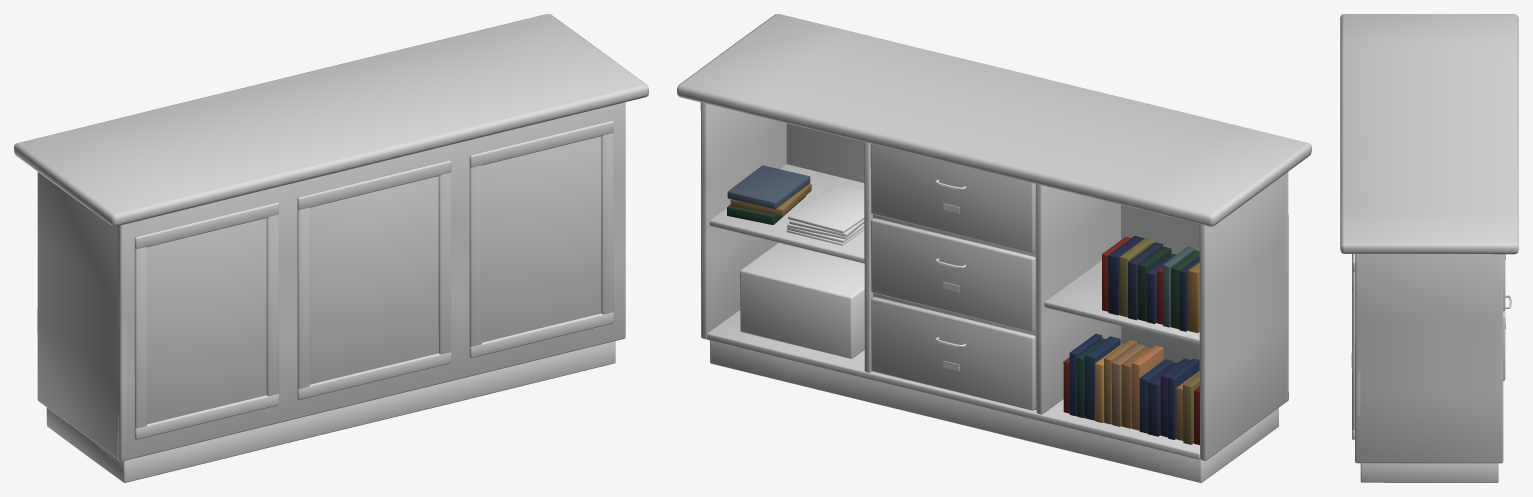
Rendered from counter_classic.glb.
The picture shows the model from 3 angles, left to right: view 1: azimuth 30°, elevation 25°; view 2: azimuth 150°, elevation 25°; view 3: azimuth 270°, elevation 25°; orthographic projection. The views are drawn at different scales.
Parts seen in each view (by area): view 1: wood, wood_dark; view 2: wood, cover, wood_dark, box, paper, metal; view 3: wood, wood_dark.
Boxes of the visible parts, left/top/right/bottom form: wood: left=14, top=14, right=648, bottom=461; wood_dark: left=46, top=341, right=615, bottom=482; wood: left=677, top=14, right=1311, bottom=460; cover: left=727, top=165, right=1199, bottom=445; wood_dark: left=710, top=340, right=1278, bottom=482; box: left=740, top=242, right=864, bottom=358; paper: left=786, top=183, right=864, bottom=245; metal: left=935, top=179, right=966, bottom=370; wood: left=1340, top=14, right=1518, bottom=463; wood_dark: left=1360, top=463, right=1498, bottom=482.
Bounding box in the file's own units: 2 × 1 × 0.6506.
